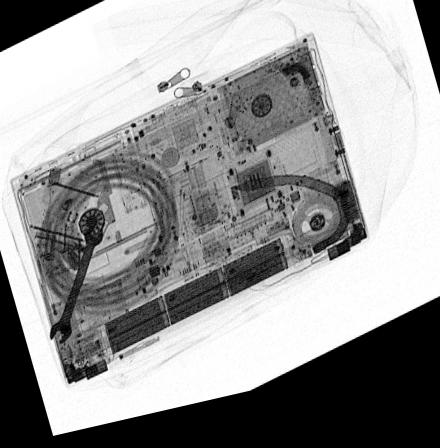Wrench: (47, 229, 103, 348)
